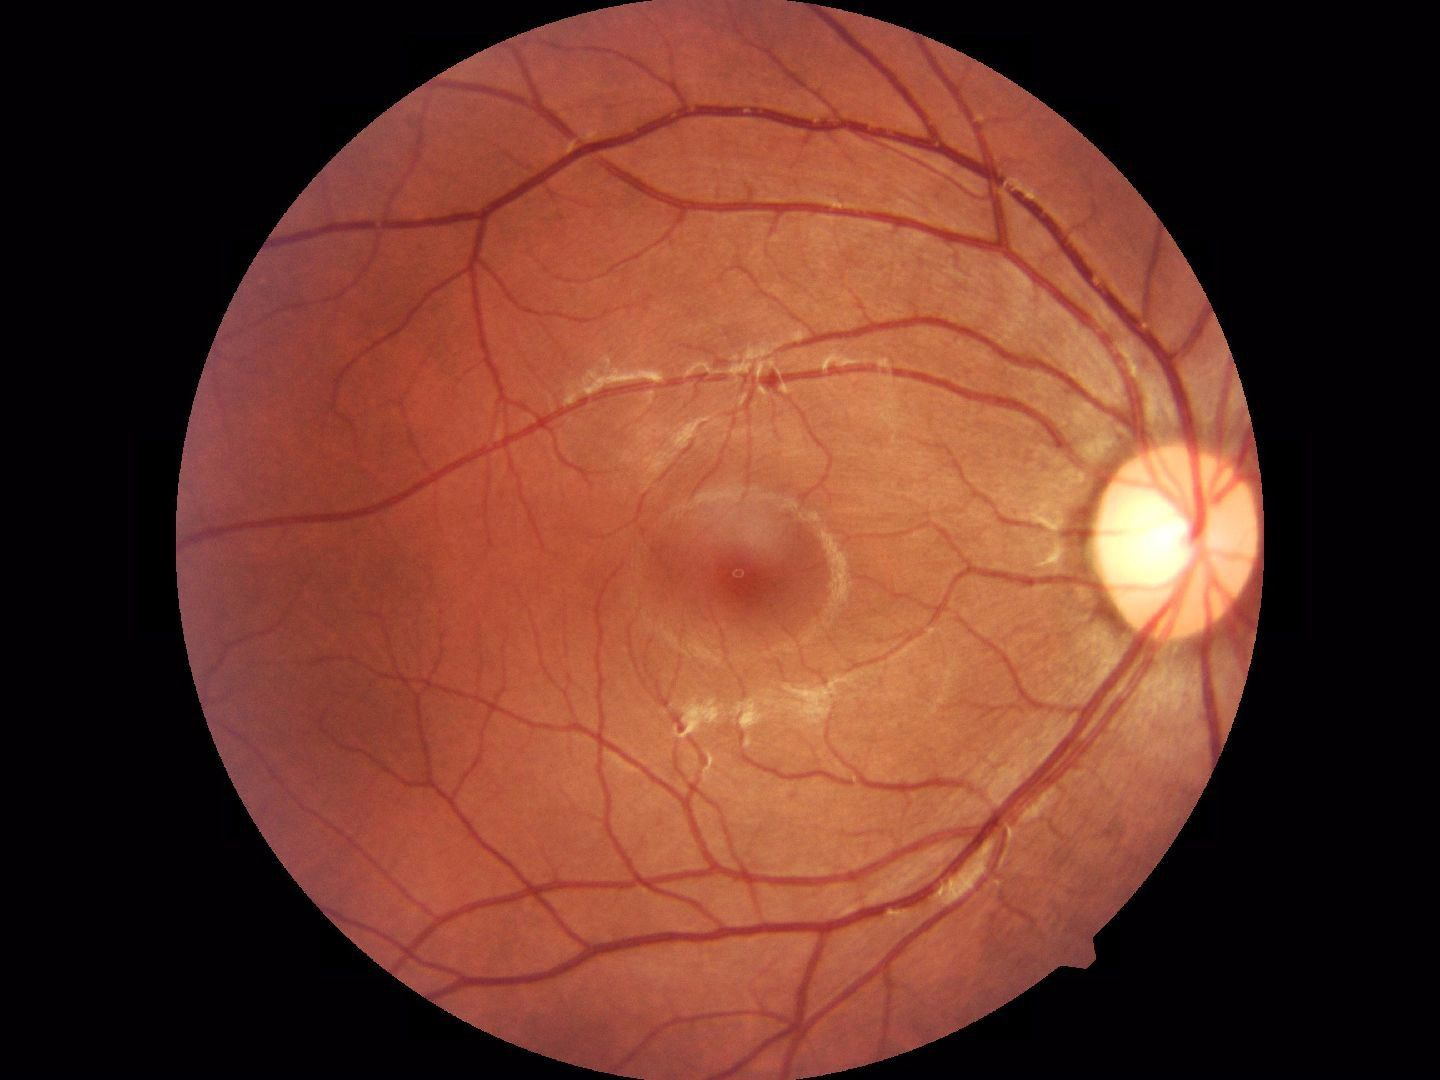Hemorrhages: (646, 504, 835, 640)
Optic-Disc: (1099, 433, 1267, 639)
Venules: (914, 119, 1113, 397), (907, 708, 1121, 906)
